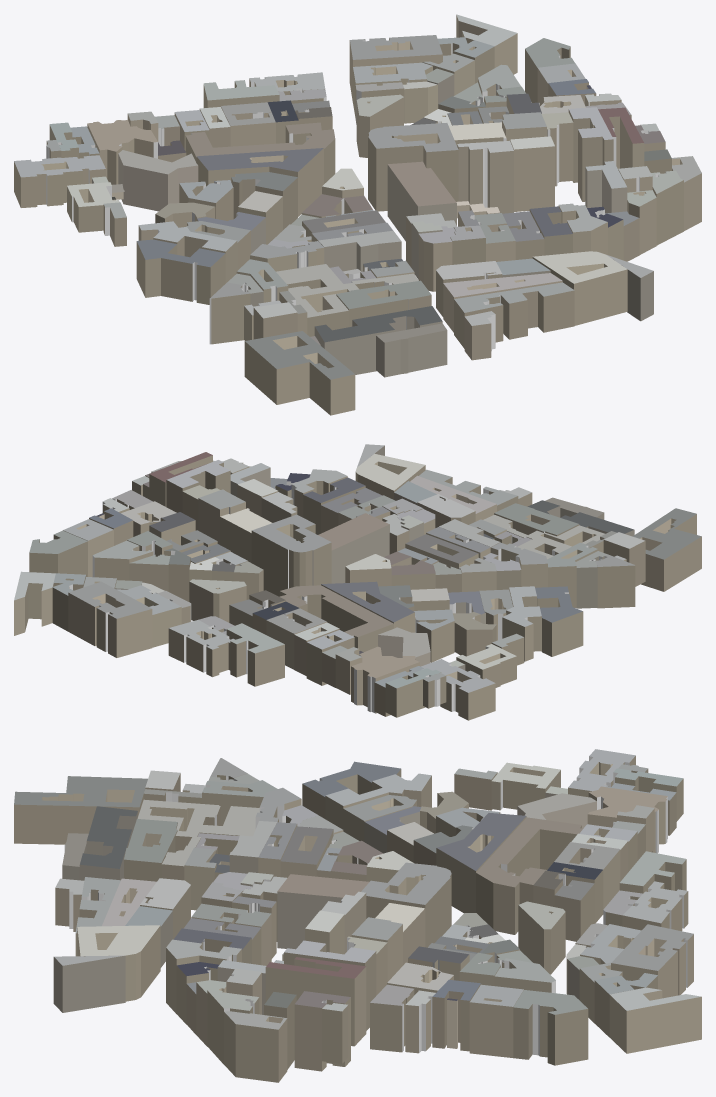
3 renders of one model, top to bottom at view 1: azimuth 30°, elevation 25°; view 2: azimuth 150°, elevation 25°; view 3: azimuth 270°, elevation 25°, orthographic. The views are drawn at different scales.
Parts seen in each view (by area): view 1: tuile; view 2: tuile; view 3: tuile.
Boxes of the visible parts, box(x1,y1,x2,y2) form: tuile: box(14, 14, 701, 415); tuile: box(14, 444, 701, 720); tuile: box(14, 749, 701, 1082).
Bounding box in the file's own units: 280 × 43.83 × 289.
